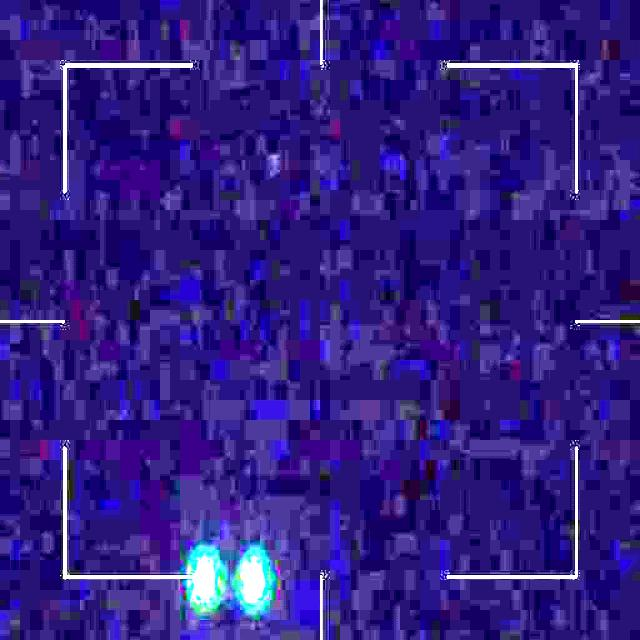bird: (190, 555, 266, 606)
